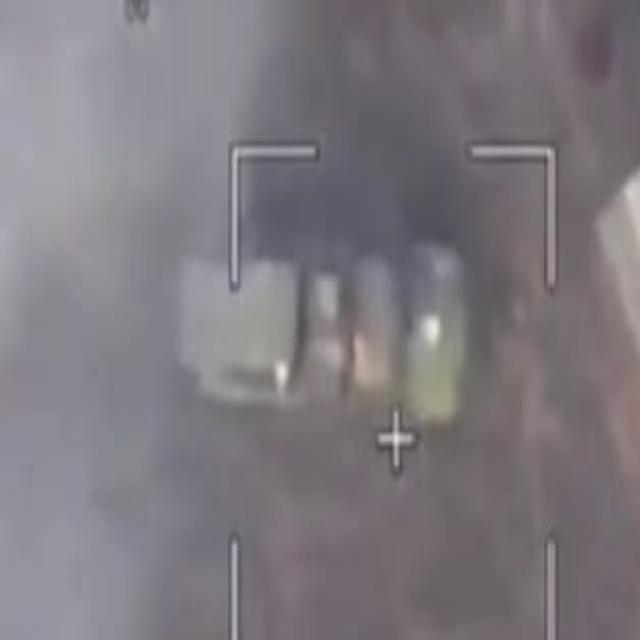MLRS: (168, 228, 468, 427)
